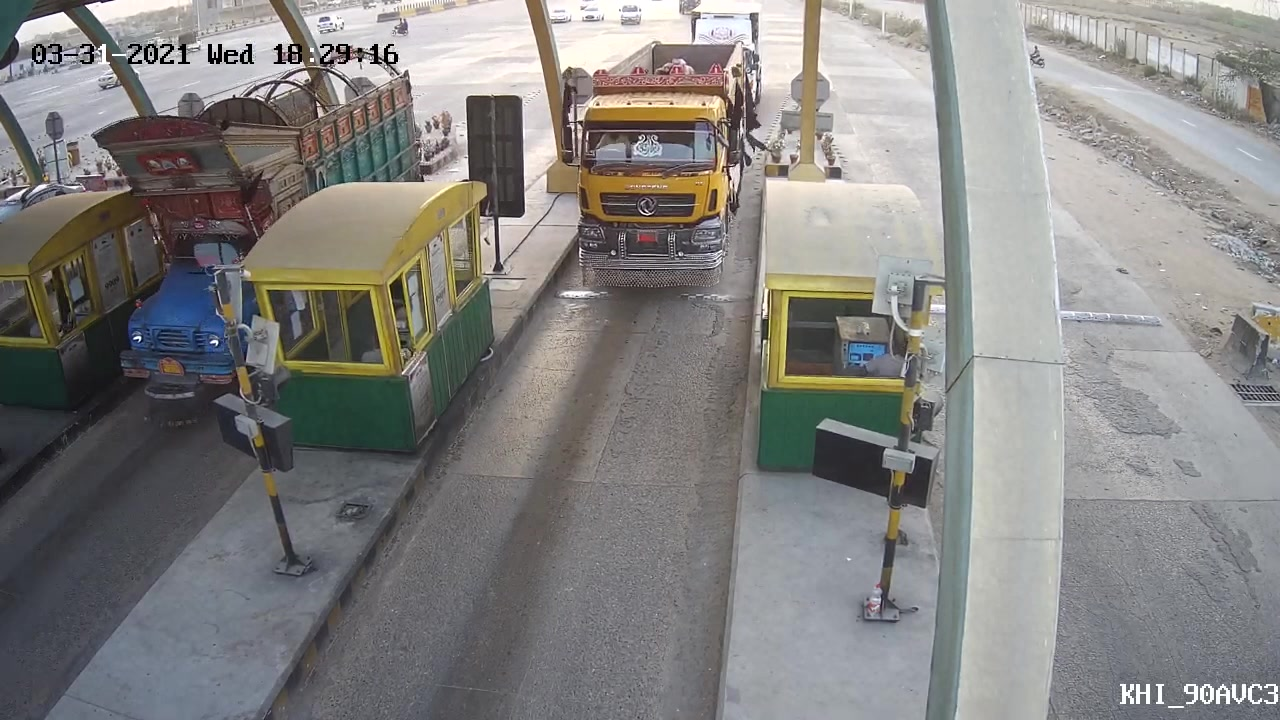F5: (556, 40, 748, 299)
